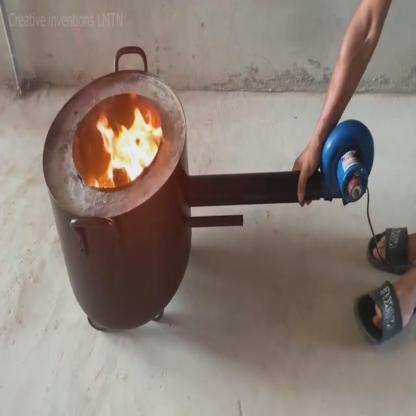Fire: (98, 112, 161, 179)
